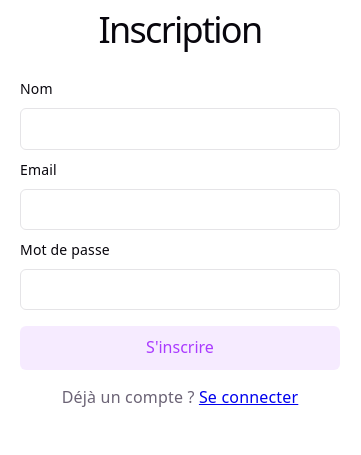
Test case: RegisterPage › affiche une erreur si l'email est déjà utilisé
Type "Jane" into the field labelled "Nom" at (180, 129), box [20,108,340,150]
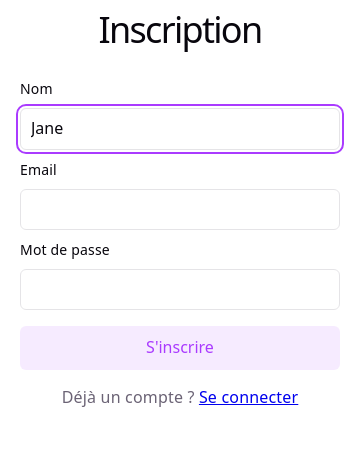
Type "jane@example.com" into the field labelled "Email" at (180, 209), box [20,189,340,230]
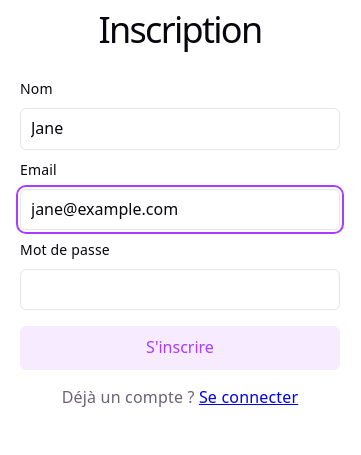
Type "password123" into the password field labelled "Mot de passe" at (180, 290), box [20,269,340,310]
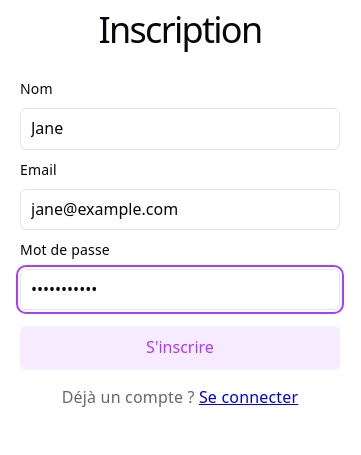
Click the button "S'inscrire" at (180, 348), box [20,326,340,370]
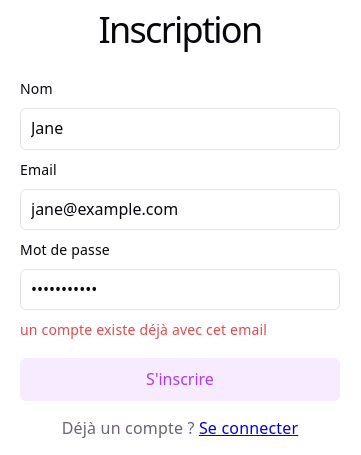
Now the text "un compte existe déjà avec cet email" is shown, box [20,320,267,339]
